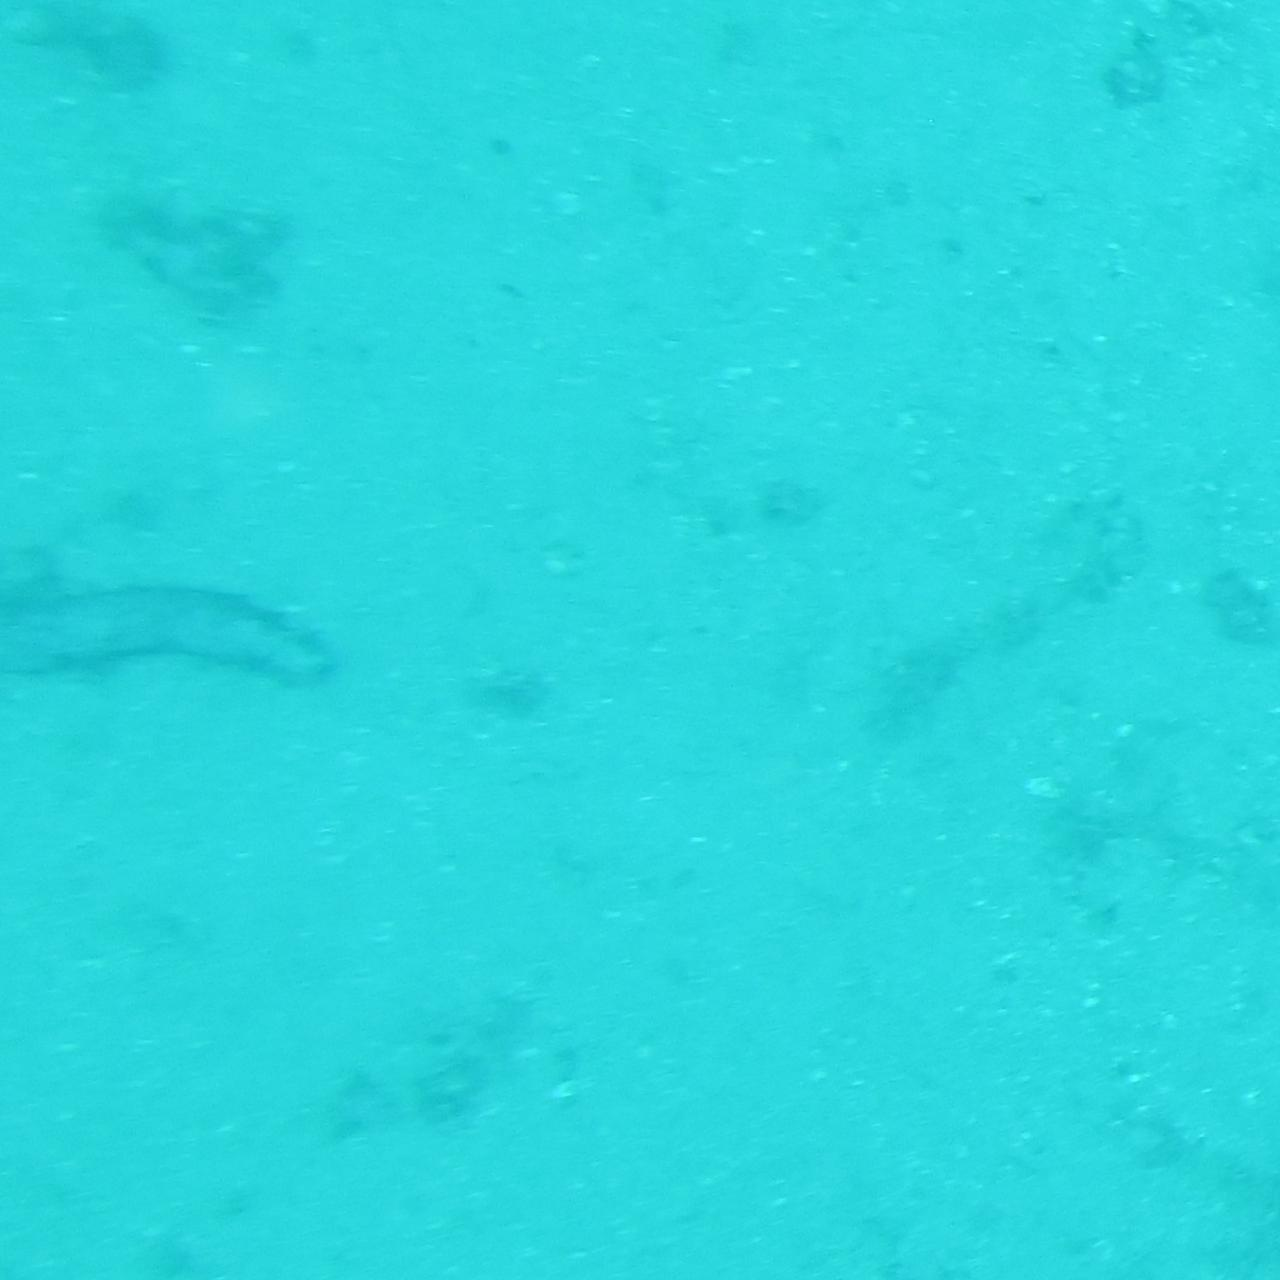Holothuria tubulosa: (0, 582, 348, 698)
